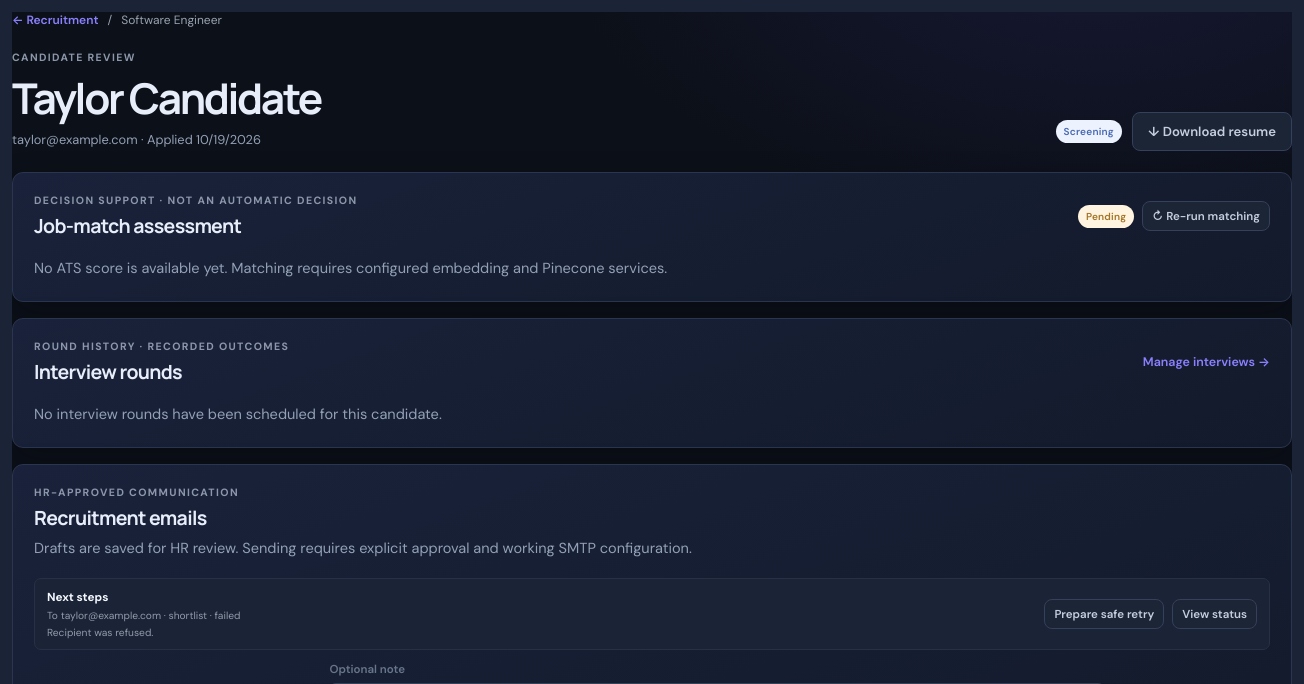
CandidateDetailPage email lifecycle › prepares a retry only for an explicit provider rejection and keeps it awaiting HR action
This screenshot has width=1304, height=684.
Click the button "Prepare safe retry" at (1104, 614), box [1044, 599, 1164, 629]
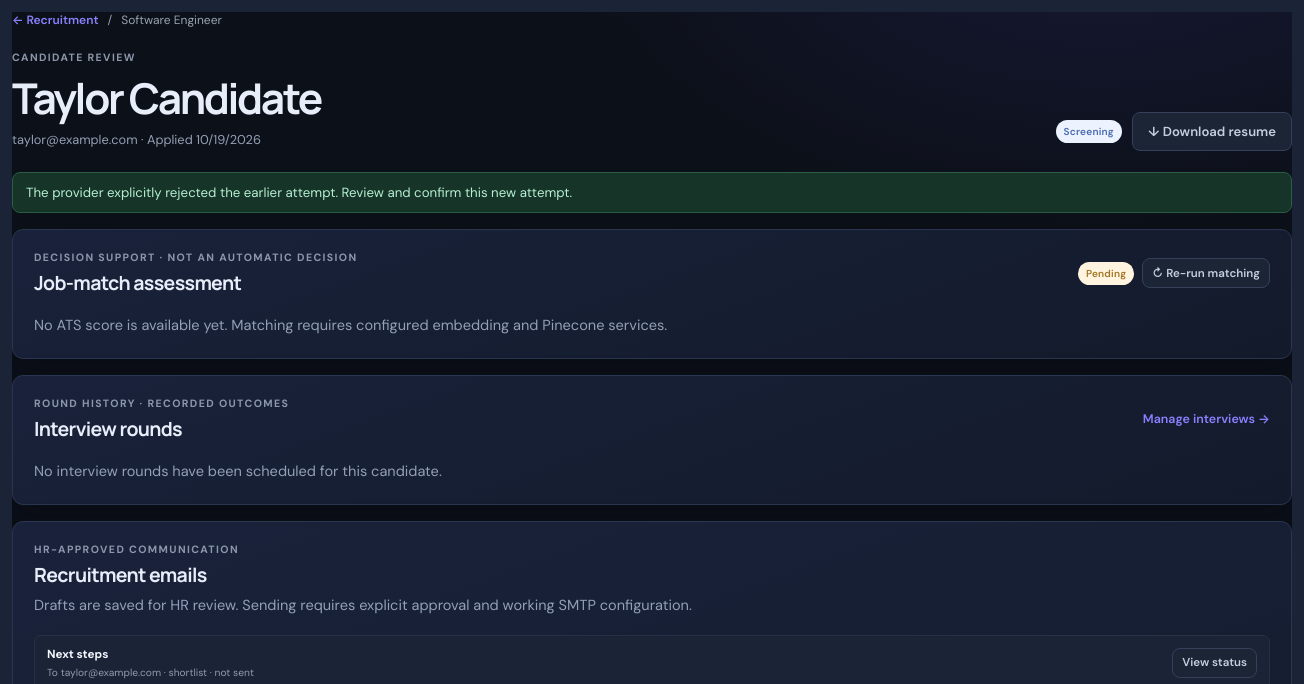
expect the text "Review and confirm this new attempt" is shown: met, box [26, 184, 572, 200]
